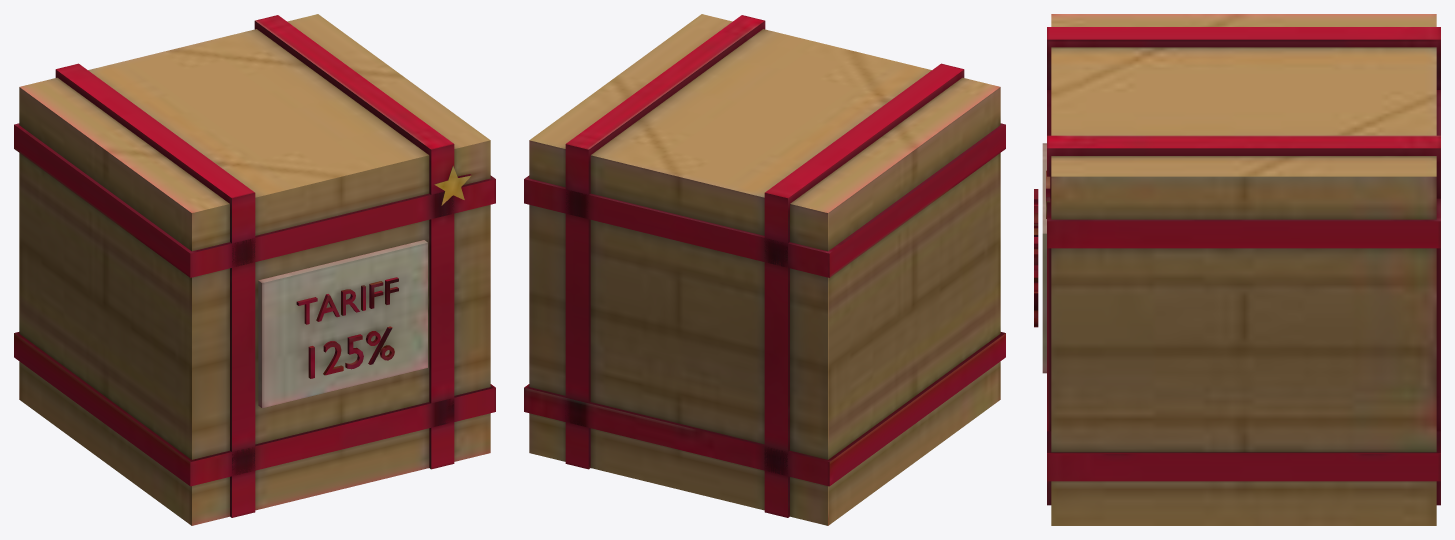
Rendered from caja_arancel.glb.
3 views of the same model, side by side, from view 1: azimuth 30°, elevation 25°; view 2: azimuth 150°, elevation 25°; view 3: azimuth 270°, elevation 25° (orthographic). The views are drawn at different scales.
Parts seen in each view (by area): view 1: caja_arancel; view 2: caja_arancel; view 3: caja_arancel.
Boxes of the visible parts, box(x1,y1,x2,y2) form: caja_arancel: box(14, 14, 495, 525); caja_arancel: box(524, 14, 1005, 525); caja_arancel: box(1034, 14, 1440, 525).
Size of the model in its own units: 0.92 by 0.92 by 0.95.
Materials: 1 (1 with a texture image).
